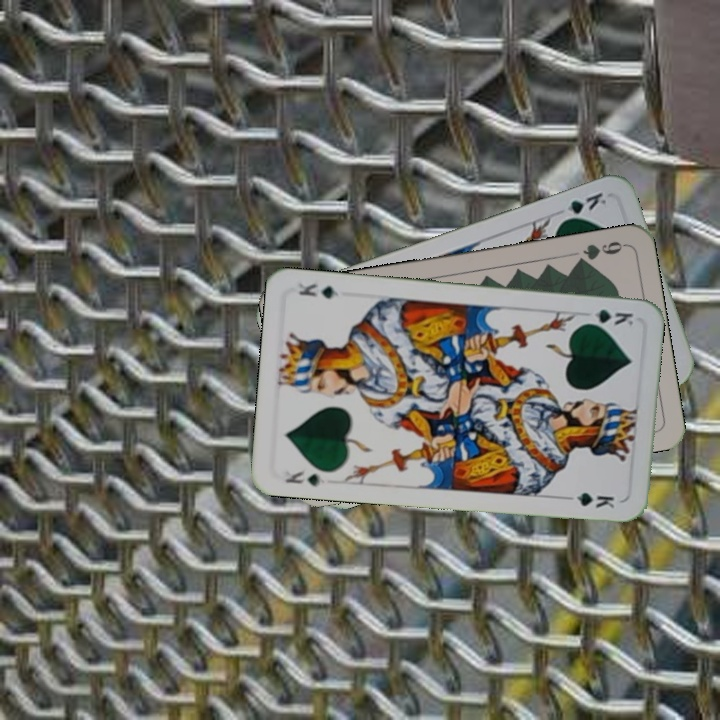G9: (571, 237, 628, 268)
GK: (555, 188, 609, 225), (579, 305, 636, 328), (282, 466, 327, 489)
